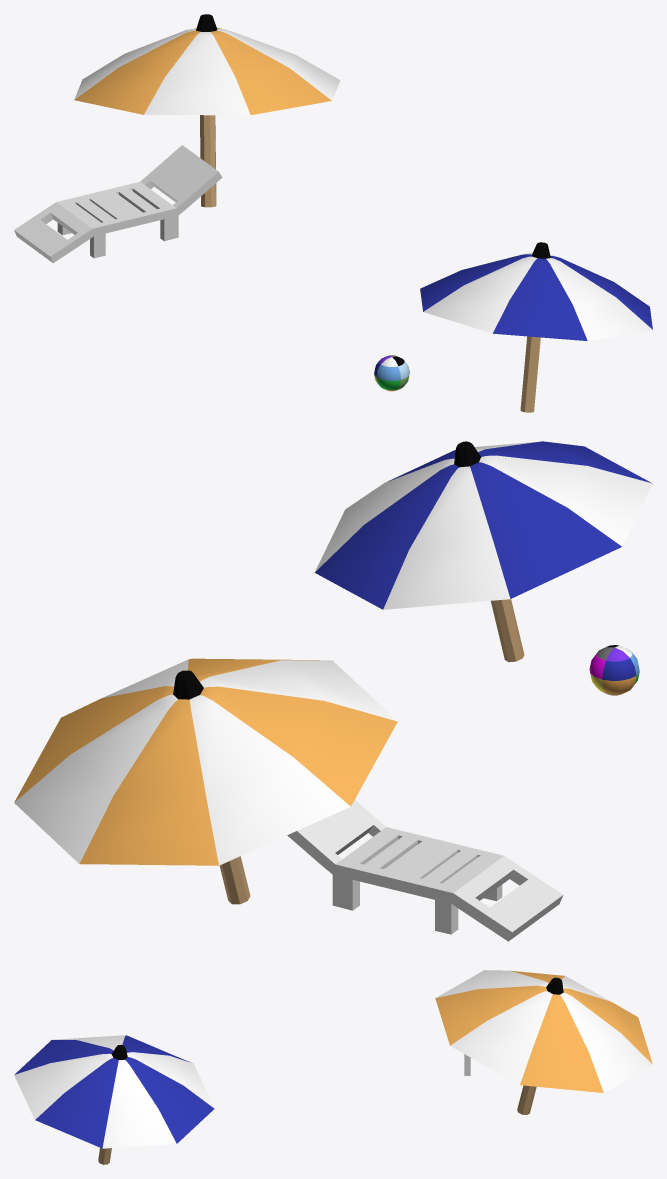
File: beachAssets.fbx
The picture shows the model from 3 angles, top to bottom: view 1: azimuth 30°, elevation 25°; view 2: azimuth 150°, elevation 25°; view 3: azimuth 270°, elevation 25°; orthographic projection. The views are drawn at different scales.
Visible parts, largest first — view 1: Parasol, Parasol_2, beach chair, BeachBall; view 2: Parasol, Parasol_2, beach chair, BeachBall; view 3: Parasol, Parasol_2.
Part boxes in pixels (bbox=[...]): Parasol: bbox=[74, 14, 340, 207]; Parasol_2: bbox=[420, 242, 652, 412]; beach chair: bbox=[14, 145, 222, 263]; BeachBall: bbox=[374, 355, 409, 391]; Parasol: bbox=[14, 658, 397, 904]; Parasol_2: bbox=[314, 441, 652, 662]; beach chair: bbox=[287, 800, 563, 941]; BeachBall: bbox=[589, 645, 639, 695]; Parasol: bbox=[435, 970, 652, 1114]; Parasol_2: bbox=[14, 1035, 214, 1164].
Bounding box in the file's own units: 449 × 233 × 807.
